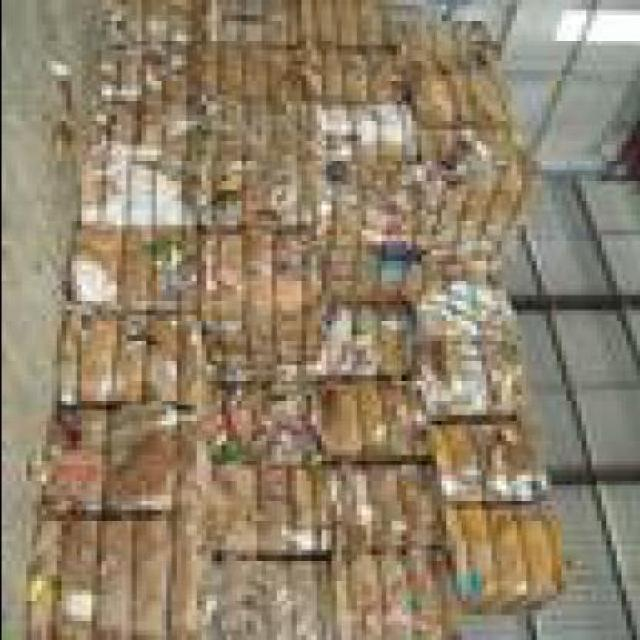CARDBOARD: (411, 14, 540, 274), (330, 40, 430, 289), (200, 40, 320, 225), (80, 35, 200, 220), (225, 360, 330, 449), (104, 400, 176, 515), (420, 250, 520, 330), (275, 225, 330, 360), (196, 226, 244, 366), (40, 410, 105, 505), (530, 500, 575, 615), (300, 0, 415, 45), (60, 510, 100, 635), (455, 500, 500, 611), (410, 546, 465, 634), (170, 405, 215, 510), (249, 224, 280, 376), (205, 550, 260, 635), (70, 220, 125, 305), (211, 455, 260, 550), (76, 300, 124, 395), (100, 506, 135, 634), (50, 294, 90, 406), (250, 455, 295, 550), (175, 516, 210, 636), (370, 454, 415, 546), (405, 459, 450, 550), (436, 415, 484, 500), (89, 0, 205, 35), (135, 520, 170, 635), (156, 230, 204, 310), (380, 540, 420, 635), (140, 310, 180, 405), (195, 0, 299, 35), (500, 495, 531, 610), (256, 546, 296, 634), (390, 370, 430, 455), (175, 315, 210, 410), (456, 330, 496, 410), (485, 410, 520, 501), (320, 370, 360, 445), (300, 550, 335, 635), (120, 305, 151, 400), (354, 546, 386, 634), (515, 410, 550, 490), (500, 324, 535, 404), (390, 296, 425, 376), (320, 295, 355, 370), (424, 336, 456, 416), (344, 460, 376, 540), (364, 376, 396, 456), (125, 226, 150, 326), (360, 296, 391, 376), (330, 450, 355, 545), (295, 460, 320, 549), (320, 450, 340, 550), (35, 510, 50, 635), (334, 546, 354, 634)
